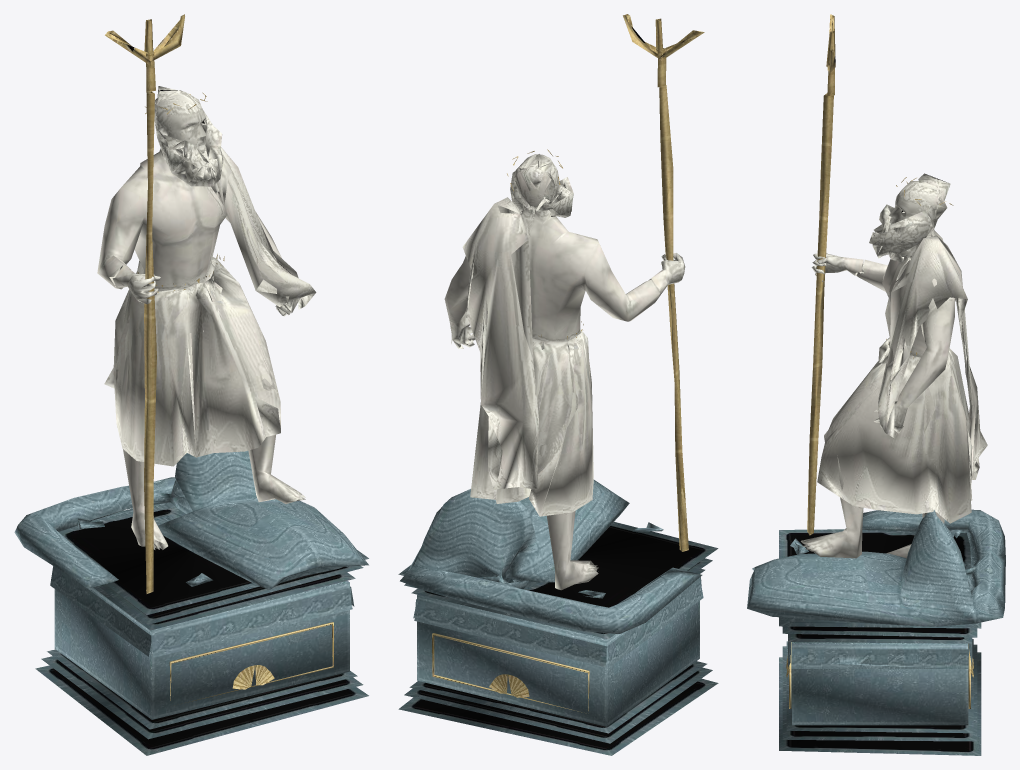
The model's file is guardian-tides-lod2.glb.
3 renders of one model, left to right at view 1: azimuth 30°, elevation 25°; view 2: azimuth 150°, elevation 25°; view 3: azimuth 270°, elevation 25°, orthographic. The views are drawn at different scales.
Visible parts, largest first — view 1: TIDES__PEDESTAL, TIDES__CLOTH, TIDES__WAVES, TIDES__BODY, TIDES__TRIDENT, TIDES__HAIR_BEARD, TIDES__FACE, TIDES__DETAILS, TIDES__HAND_GRIP; view 2: TIDES__PEDESTAL, TIDES__CLOTH, TIDES__WAVES, TIDES__BODY, TIDES__TRIDENT, TIDES__HAIR_BEARD, TIDES__DETAILS, TIDES__HAND_GRIP, TIDES__FACE; view 3: TIDES__PEDESTAL, TIDES__CLOTH, TIDES__WAVES, TIDES__BODY, TIDES__TRIDENT, TIDES__HAIR_BEARD, TIDES__FACE, TIDES__HAND_GRIP, TIDES__DETAILS.
Boxes of the visible parts, x1,y1,x2,y2 form: TIDES__PEDESTAL: [35, 502, 368, 755]; TIDES__CLOTH: [104, 147, 316, 466]; TIDES__WAVES: [14, 450, 368, 589]; TIDES__BODY: [97, 97, 305, 549]; TIDES__TRIDENT: [105, 14, 184, 593]; TIDES__HAIR_BEARD: [155, 86, 223, 186]; TIDES__FACE: [155, 90, 207, 153]; TIDES__DETAILS: [137, 92, 333, 702]; TIDES__HAND_GRIP: [112, 265, 160, 304]; TIDES__PEDESTAL: [398, 522, 718, 755]; TIDES__CLOTH: [451, 197, 593, 516]; TIDES__WAVES: [400, 479, 702, 633]; TIDES__BODY: [444, 169, 659, 590]; TIDES__TRIDENT: [623, 14, 704, 551]; TIDES__HAIR_BEARD: [510, 154, 573, 217]; TIDES__DETAILS: [432, 149, 589, 712]; TIDES__HAND_GRIP: [648, 253, 685, 298]; TIDES__FACE: [514, 154, 560, 215]; TIDES__PEDESTAL: [779, 529, 981, 755]; TIDES__CLOTH: [817, 235, 987, 523]; TIDES__WAVES: [747, 509, 1005, 626]; TIDES__BODY: [801, 190, 956, 558]; TIDES__TRIDENT: [807, 14, 835, 535]; TIDES__HAIR_BEARD: [869, 173, 950, 262]; TIDES__FACE: [889, 181, 938, 237]; TIDES__HAND_GRIP: [811, 253, 863, 281]; TIDES__DETAILS: [786, 177, 973, 708].
Bounding box in the file's own units: 3.34 × 9.06 × 3.32.
Materials: 3 (3 with a texture image).
